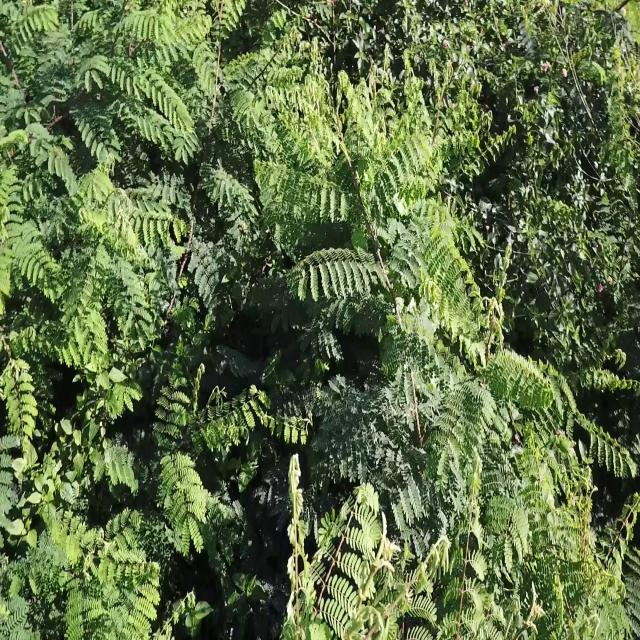Mysore-Thorn-Weed: (272, 54, 488, 362), (148, 325, 324, 558), (0, 177, 194, 356), (282, 453, 449, 640), (0, 29, 223, 168), (512, 433, 640, 640), (0, 516, 168, 639), (429, 343, 544, 470), (437, 452, 500, 640), (0, 356, 39, 499)
